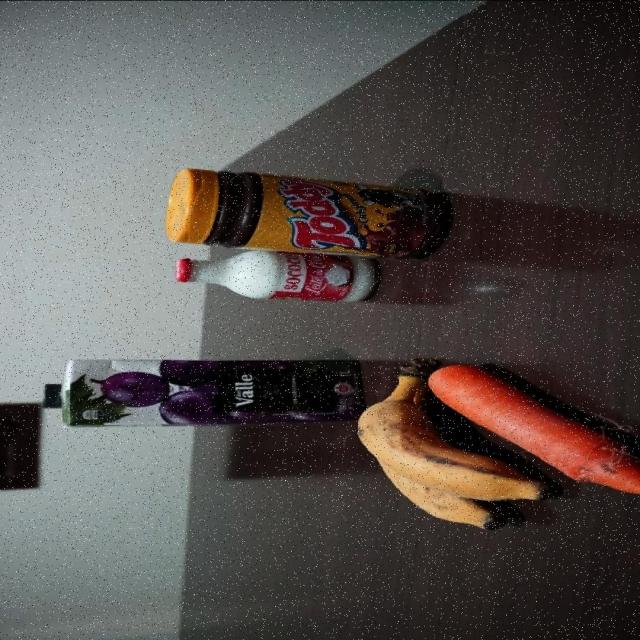Banana: (344, 353, 427, 527)
Carrot: (431, 362, 602, 444)
ChocolatePowder: (160, 167, 449, 253)
CoconutMilk: (166, 254, 376, 303)
